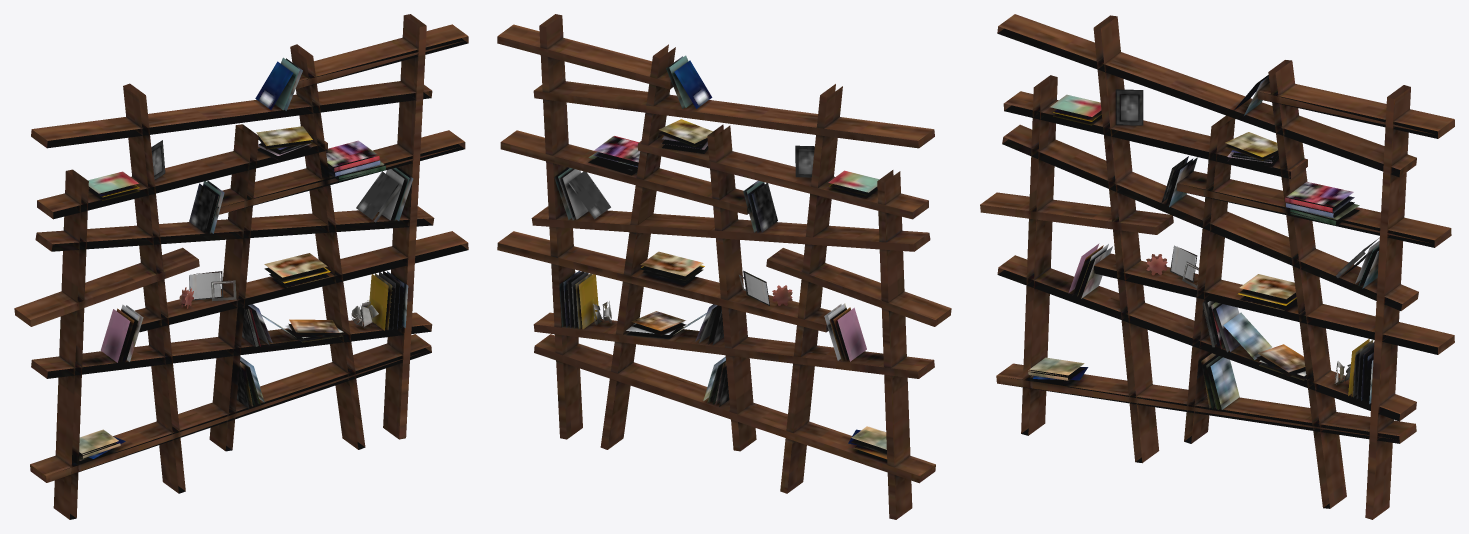
3 renders of one model, left to right at view 1: azimuth 30°, elevation 25°; view 2: azimuth 150°, elevation 25°; view 3: azimuth 330°, elevation 25°, orthographic. The views are drawn at different scales.
Parts seen in each view (by area): view 1: Mesh_0.014, Mesh_2.009, Mesh_3.006, Mesh_1.011; view 2: Mesh_0.014, Mesh_2.009, Mesh_3.006; view 3: Mesh_0.014, Mesh_2.009, Mesh_3.006, Mesh_1.011.
Part boxes in pixels (x1,y1,x2,y2): Mesh_0.014: (14,14,468,519); Mesh_2.009: (14,24,467,475); Mesh_3.006: (79,57,413,465); Mesh_1.011: (30,26,464,482); Mesh_0.014: (497,14,951,519); Mesh_2.009: (498,24,950,475); Mesh_3.006: (554,55,887,459); Mesh_0.014: (997,15,1454,519); Mesh_2.009: (980,14,1454,435); Mesh_3.006: (1028,75,1379,409); Mesh_1.011: (980,91,1434,519).
Bounding box in the file's own units: 315 × 280 × 29.64.
Materials: 1 (1 with a texture image).
